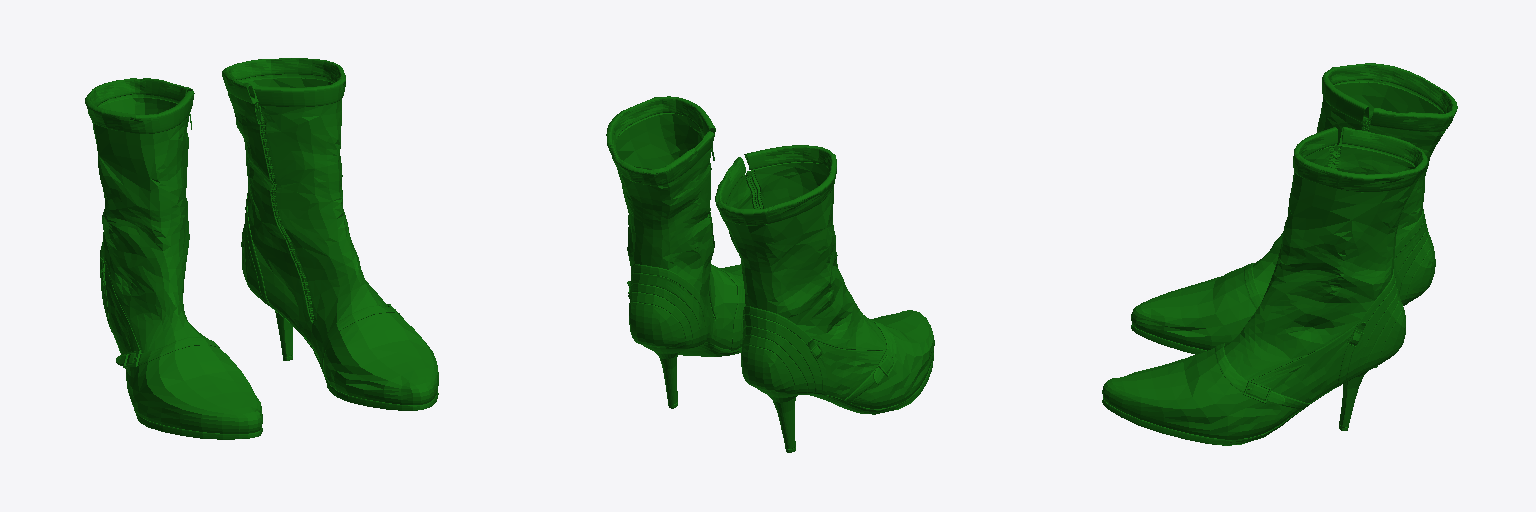
Rendered from gaotong5.obj.
The picture shows the model from 3 angles: view 1: azimuth 30°, elevation 25°; view 2: azimuth 150°, elevation 25°; view 3: azimuth 270°, elevation 25°; orthographic projection.
Visible parts, largest first — view 1: file.001; view 2: file.001; view 3: file.001.
Part boxes in pixels (bbox=[...]): file.001: bbox=[85, 58, 438, 439]; file.001: bbox=[606, 96, 934, 452]; file.001: bbox=[1102, 63, 1457, 445].
Bounding box in the file's own units: 3.4 × 3.58 × 3.98.